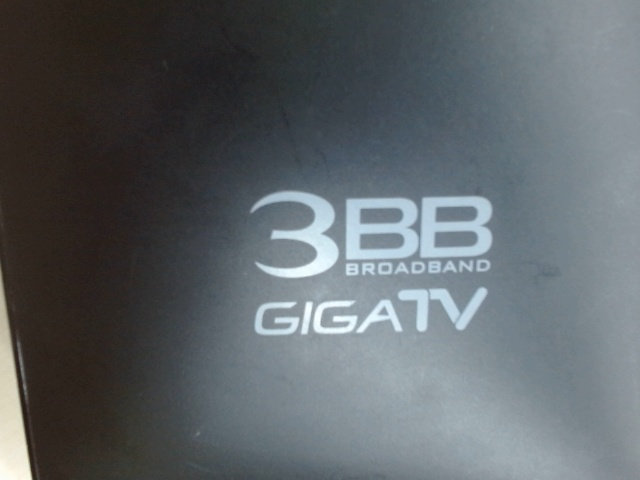AG_3BB: (229, 183, 501, 345)
